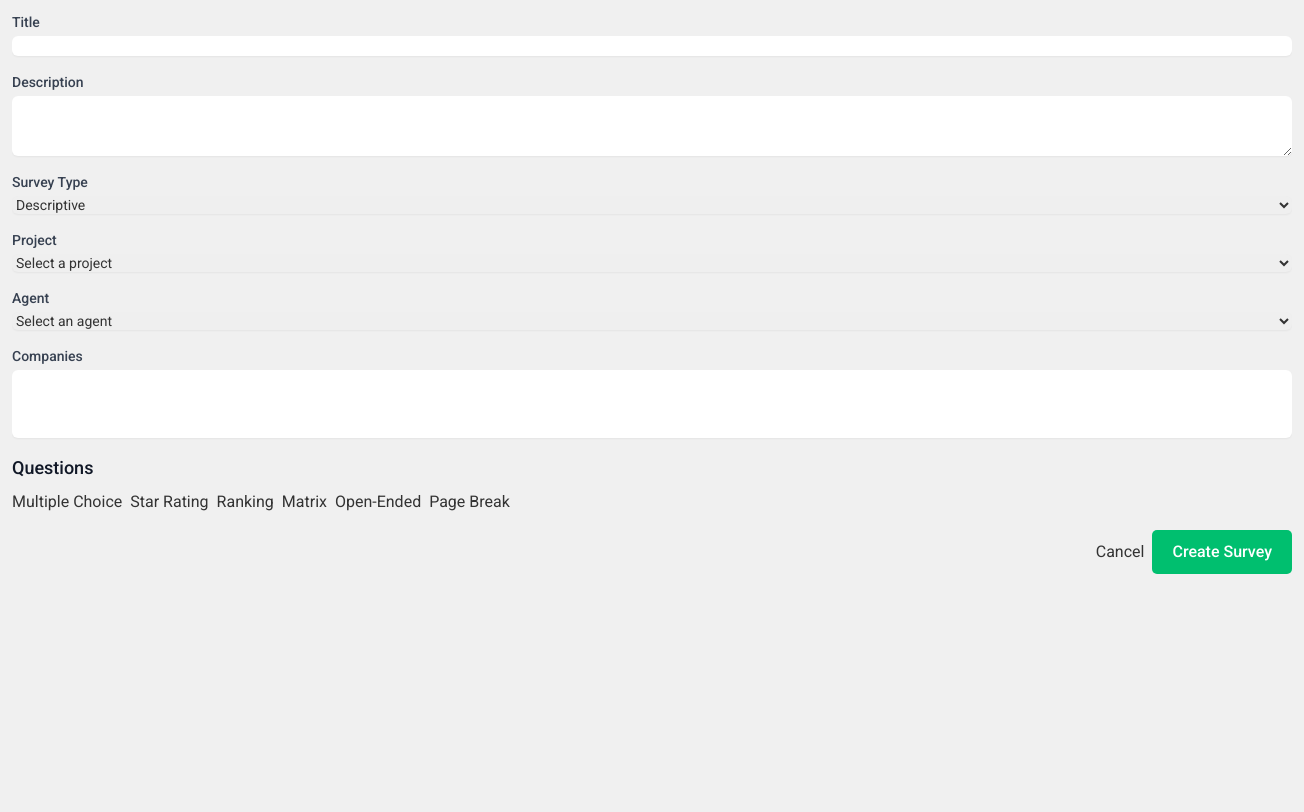
Test: adds a star-rating question
The width and height of the screenshot is (1304, 812).
Click the button "Star Rating" at x=169, y=502, box [130,490,208,514]
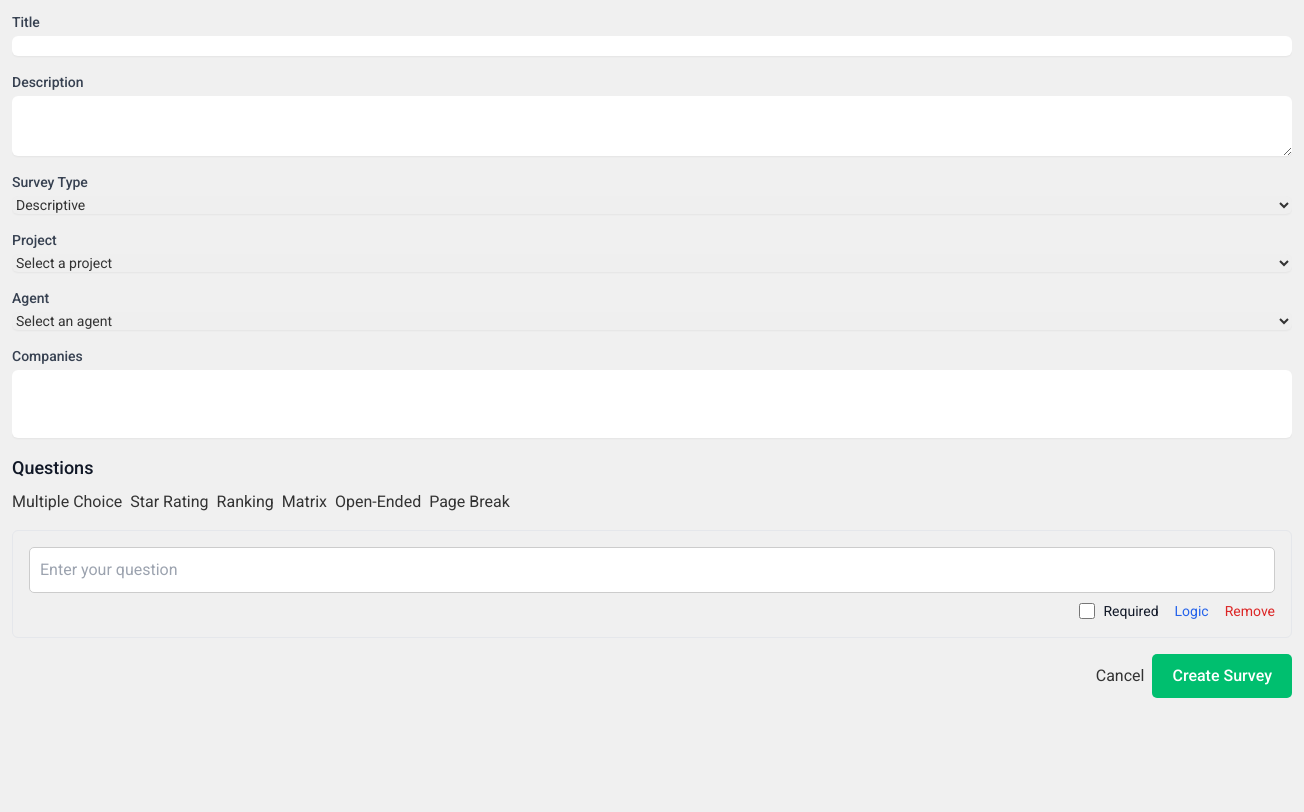
Result: the field with placeholder "Enter your question" is shown at [29,547,1275,593]
